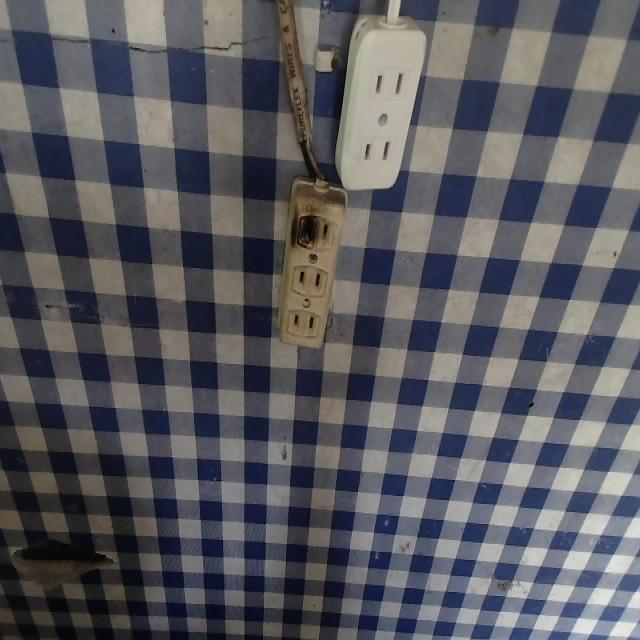-: (291, 207, 325, 252)
